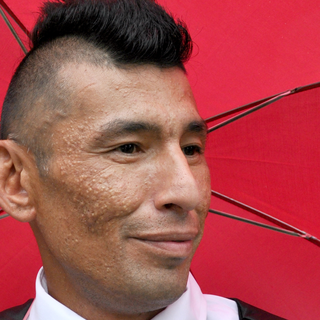eye: (101, 138, 149, 163), (174, 138, 211, 163)
